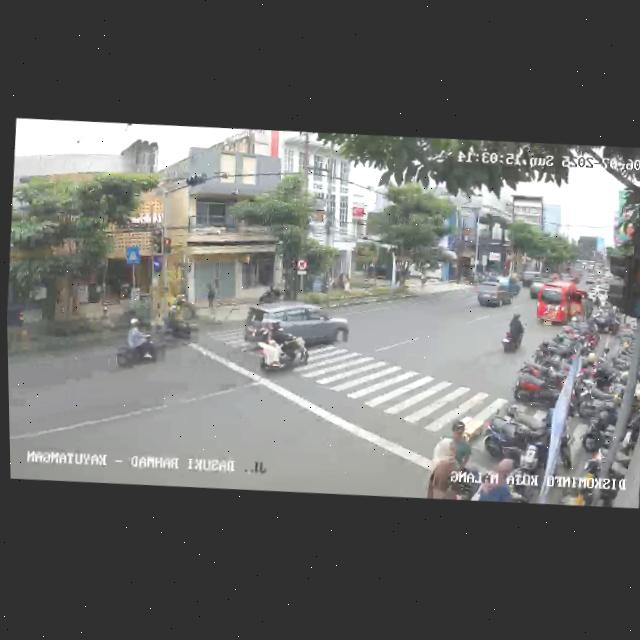car: (243, 295, 347, 372), (535, 280, 591, 329), (475, 277, 516, 312)
motorcycle: (250, 316, 311, 378), (104, 316, 163, 376), (156, 295, 201, 345), (498, 309, 526, 358)
person: (427, 436, 463, 498), (432, 417, 474, 470), (477, 455, 516, 503)
